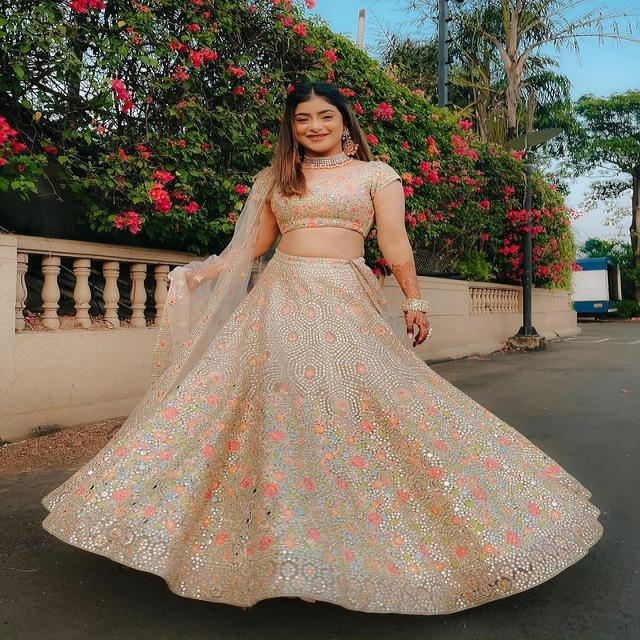female-dress: (32, 135, 610, 609)
